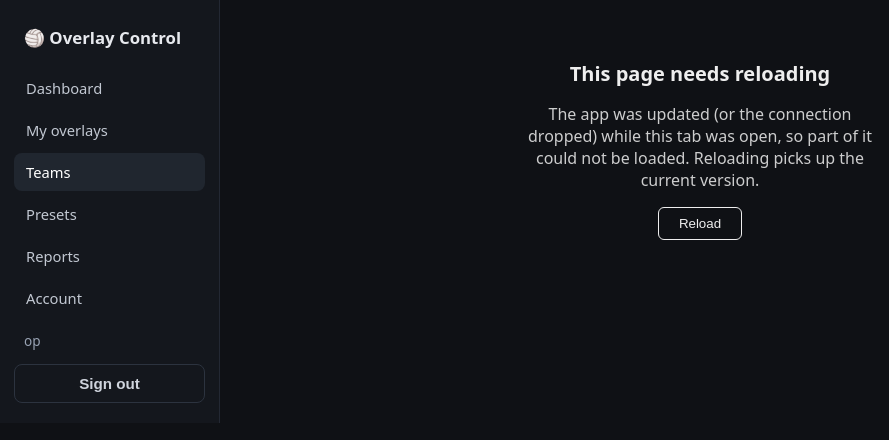
Test: AccountLayout with a chunk that will not load › actually navigates away, rather than just showing a live-looking nav
Expected: the message is shown, [528,60,872,240]
Click the link "My overlays" at point(67, 130), box [26,120,108,140]
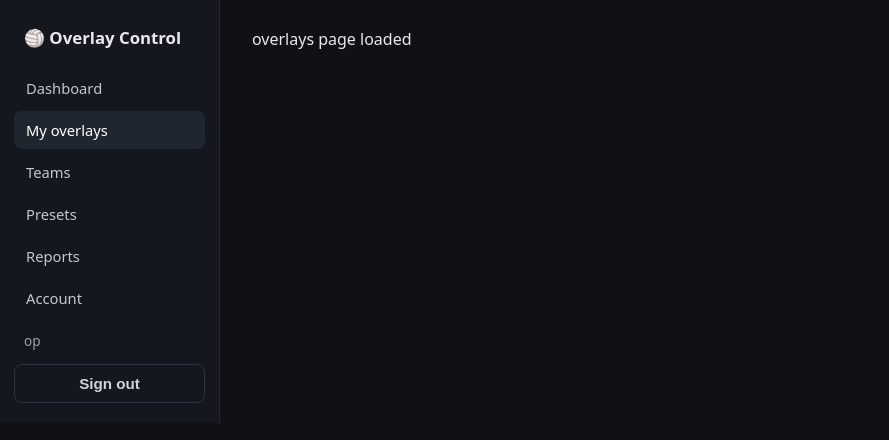
Now the text "overlays page loaded" is shown, box [252,28,412,50]
Now the message "This page needs reloading The app was updated (or the connection dropped) while" is gone
